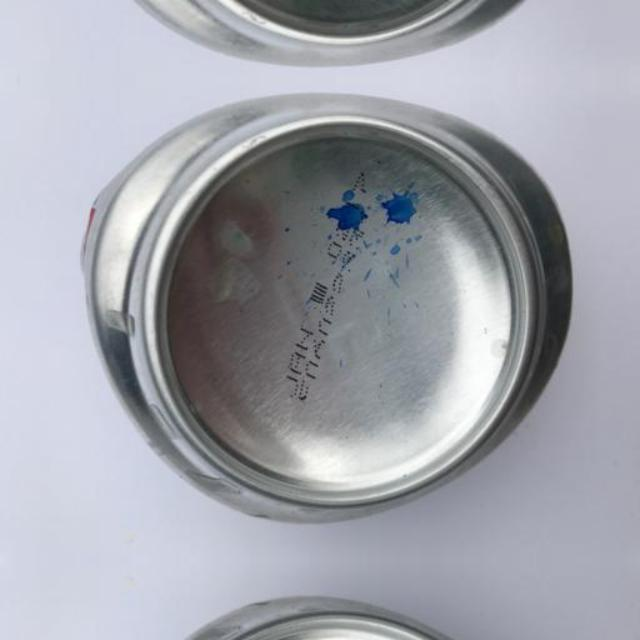Metal: (72, 82, 576, 534), (72, 0, 575, 77), (72, 586, 575, 640)
